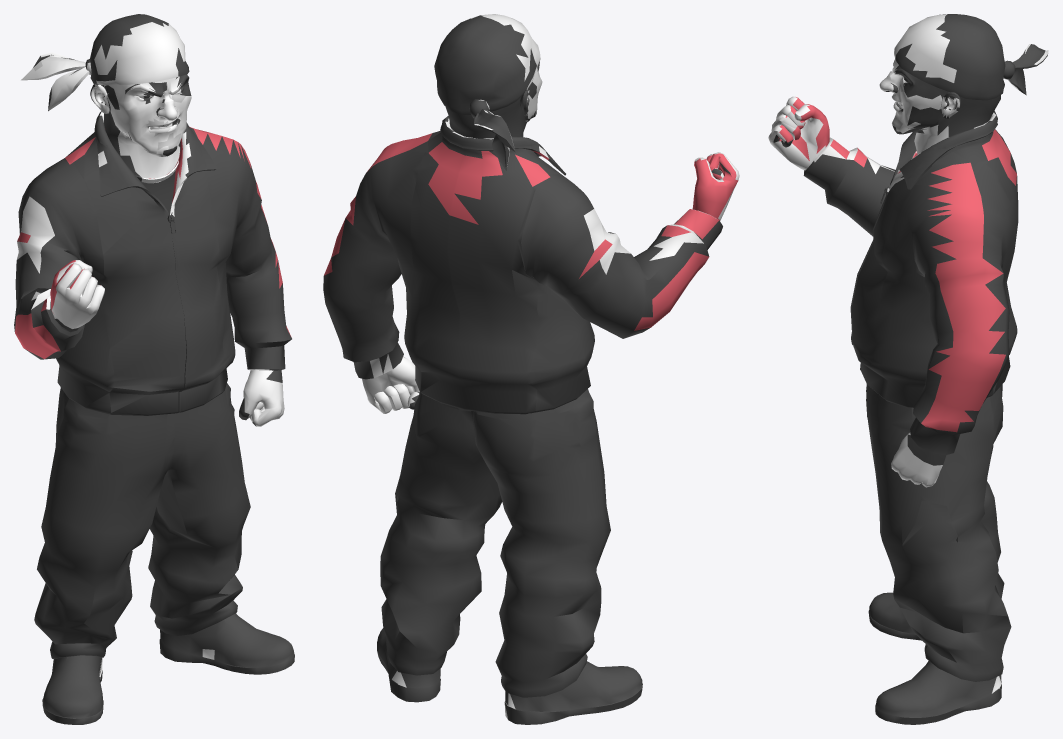
The model's file is Thug.glb.
3 renders of one model, left to right at view 1: azimuth 30°, elevation 25°; view 2: azimuth 150°, elevation 25°; view 3: azimuth 270°, elevation 25°, orthographic. The views are drawn at different scales.
Visible parts, largest first — view 1: Body, LegL, LegR, ArmL, ArmR, Head; view 2: LegL, Body, ArmL, LegR, ArmR, Head; view 3: ArmR, LegR, Head, Body, ArmL, LegL.
Part boxes in pixels (x1,y1,x2,y2): Body: (61, 126, 225, 419); LegL: (34, 387, 173, 724); LegR: (148, 383, 294, 674); ArmL: (14, 160, 114, 419); ArmR: (154, 127, 291, 426); Head: (21, 14, 191, 153); LegL: (473, 389, 642, 724); Body: (410, 132, 565, 421); ArmL: (521, 152, 739, 419); LegR: (377, 389, 502, 702); ArmR: (323, 131, 440, 413); Head: (434, 14, 542, 170); ArmR: (871, 152, 1013, 487); LegR: (866, 385, 1011, 724); Head: (879, 14, 1048, 148); Body: (850, 129, 1018, 397); ArmL: (768, 96, 996, 236); LegL: (866, 384, 1004, 640).
Bounding box in the file's own units: 0.8855 × 1.8 × 0.7008.
